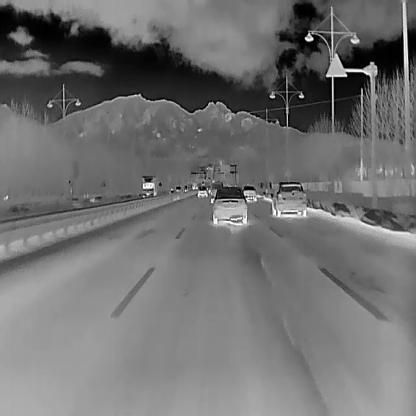car: (212, 186, 247, 224), (271, 180, 307, 216), (139, 175, 162, 198), (210, 181, 223, 202), (242, 186, 256, 202), (196, 185, 207, 197), (175, 185, 181, 193), (191, 181, 197, 189), (183, 184, 188, 193), (169, 188, 174, 194)
